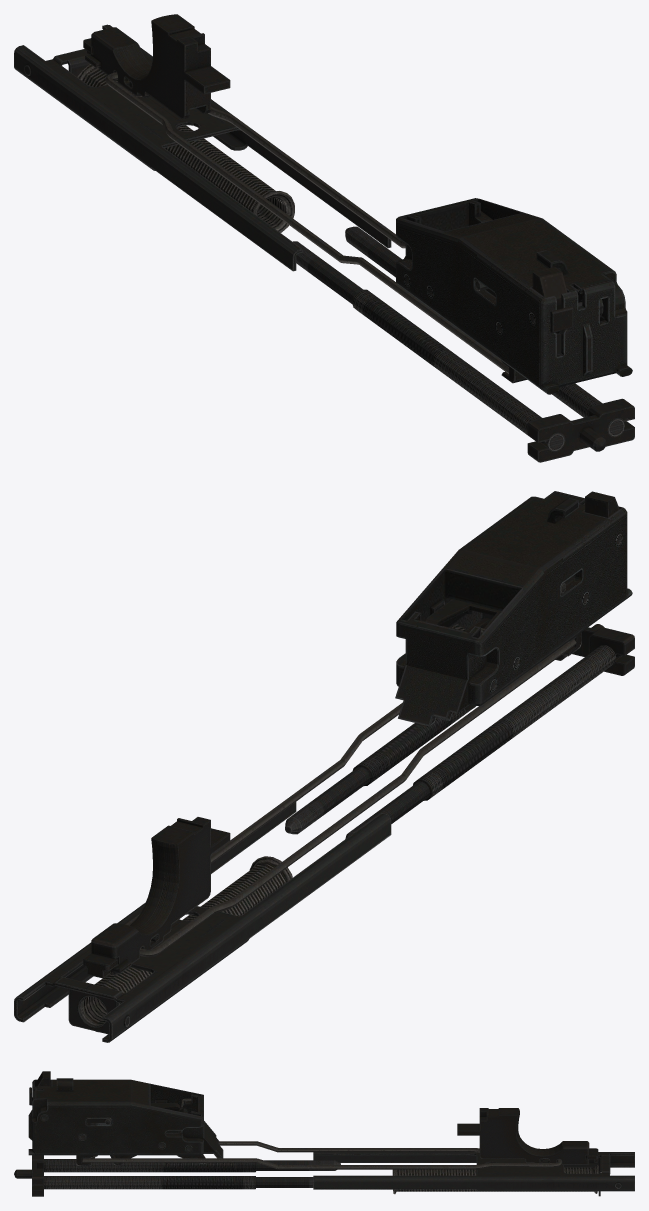
3 renders of one model, top to bottom at view 1: azimuth 30°, elevation 25°; view 2: azimuth 150°, elevation 25°; view 3: azimuth 270°, elevation 25°, orthographic. The views are drawn at different scales.
Parts seen in each view (by area): view 1: TW_5cc82d76e24e8d00134b4b83_PZ_Import; view 2: TW_5cc82d76e24e8d00134b4b83_PZ_Import; view 3: TW_5cc82d76e24e8d00134b4b83_PZ_Import.
Boxes of the visible parts, left/top/right/bottom form: TW_5cc82d76e24e8d00134b4b83_PZ_Import: left=14, top=14, right=634, bottom=462; TW_5cc82d76e24e8d00134b4b83_PZ_Import: left=14, top=491, right=634, bottom=1042; TW_5cc82d76e24e8d00134b4b83_PZ_Import: left=14, top=1071, right=634, bottom=1196.
Size of the model in its own units: 0.0261 by 0.2402 by 0.0473.
Materials: 1 (1 with a texture image).
